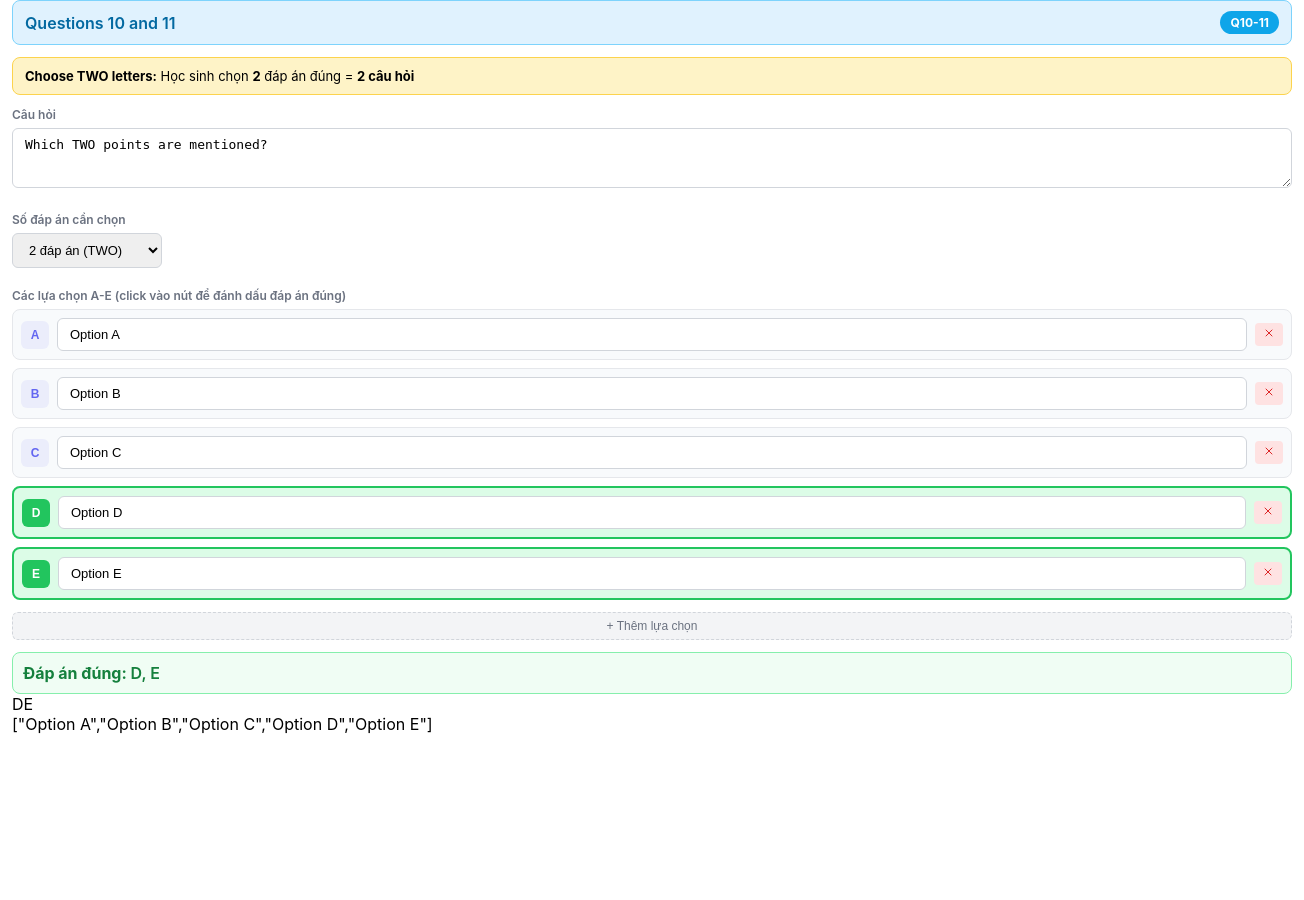
Scenario: MultiSelectQuestion keeps legacy option text storage when editing
Replace the text in the 1st field with placeholder "Lựa chọn A" with "Updated option A": (652, 334) [57, 318, 1247, 351]
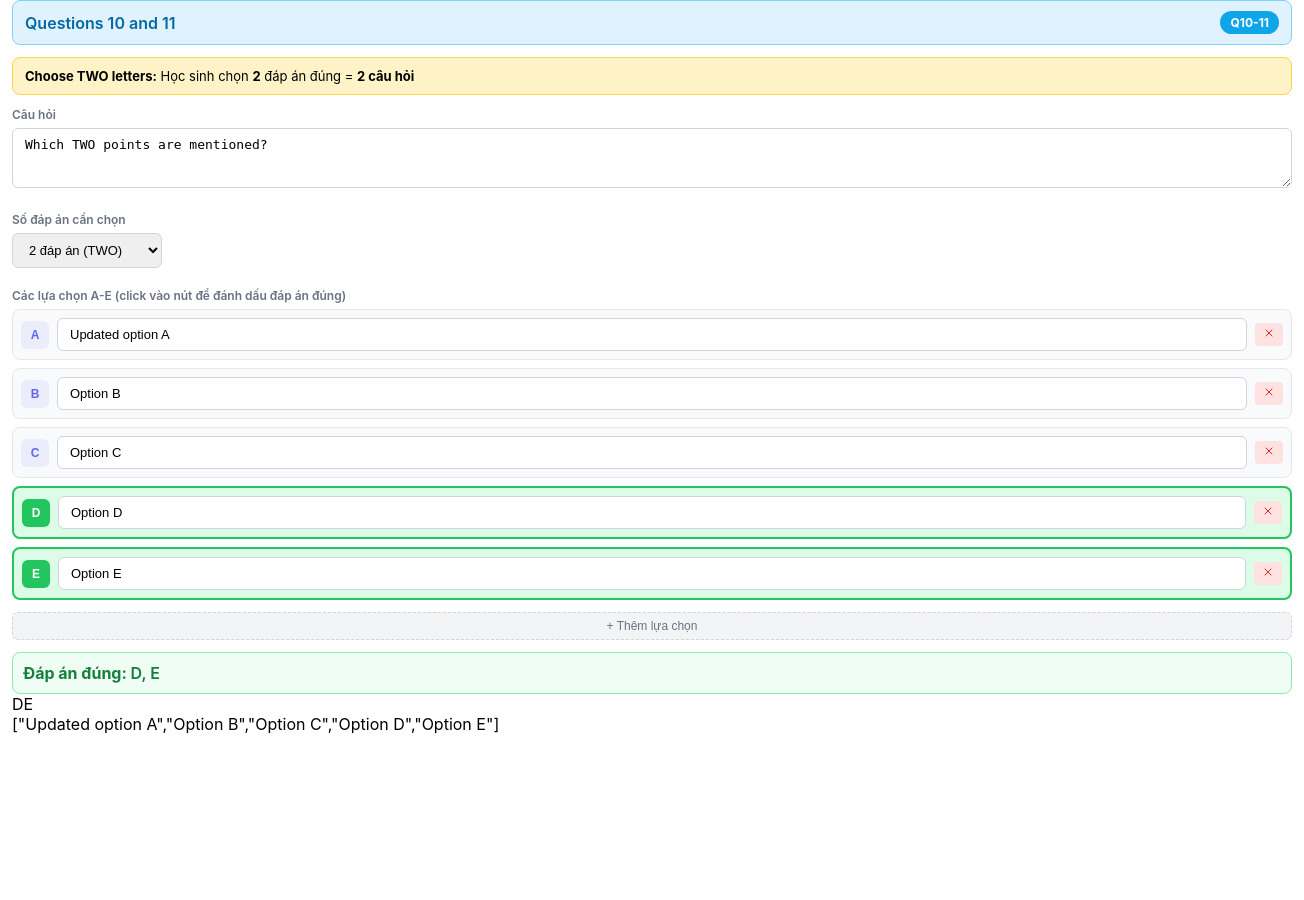
Check: the text with test id "raw-options" does not show "A. Updated option A", box [12, 714, 499, 734]
Check: the text with test id "raw-options" shows "Updated option A", box [12, 714, 499, 734]
